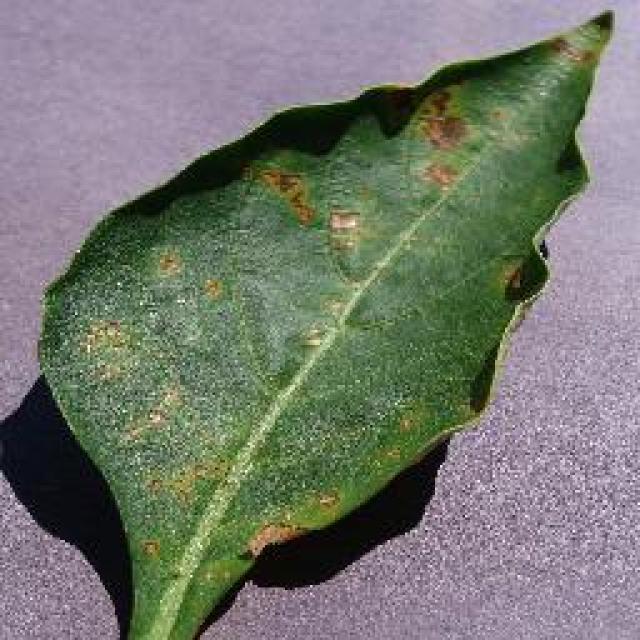Chilli_Bacterial_Spot: (32, 5, 618, 637), (405, 83, 475, 195), (148, 242, 232, 308), (252, 162, 318, 228), (240, 518, 308, 562), (75, 315, 133, 360), (323, 205, 365, 257), (418, 110, 470, 152), (415, 157, 460, 195), (498, 258, 530, 302), (153, 248, 185, 280), (293, 323, 325, 355), (198, 272, 228, 302), (135, 535, 163, 563)
